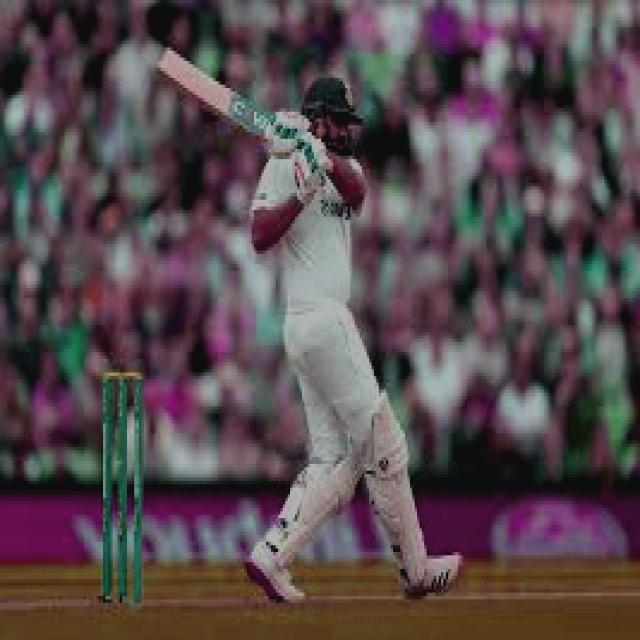toe: (156, 48, 174, 74)
